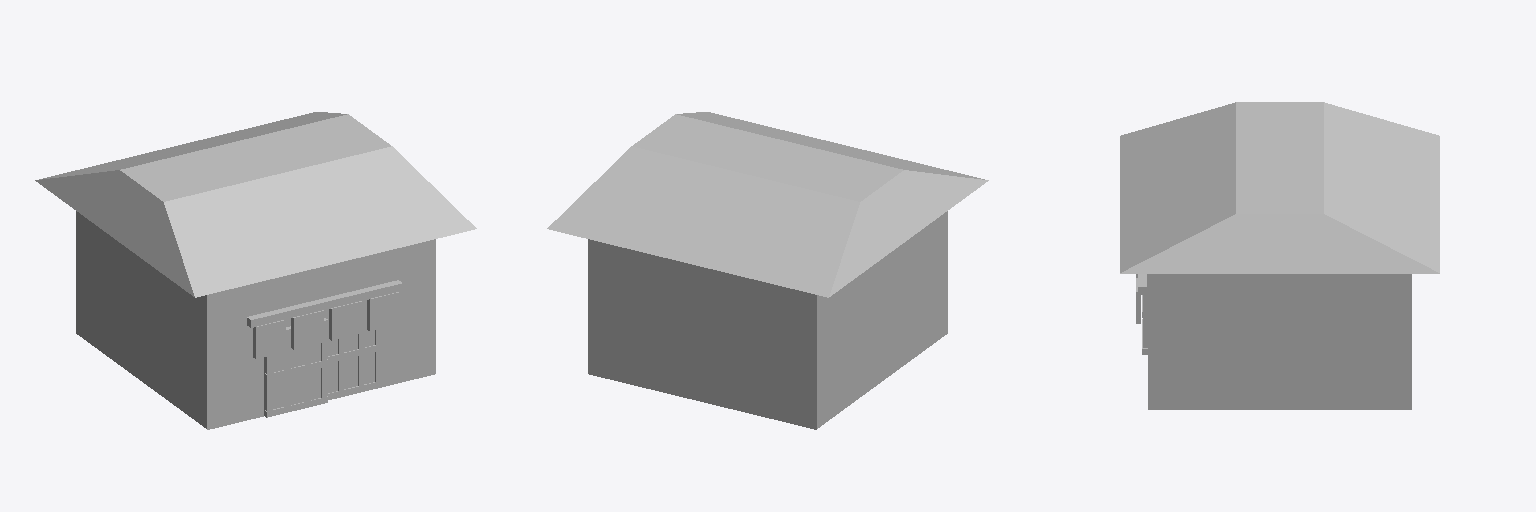
File: RamenShop.obj
The picture shows the model from 3 angles: view 1: azimuth 30°, elevation 25°; view 2: azimuth 150°, elevation 25°; view 3: azimuth 270°, elevation 25°; orthographic projection.
Parts seen in each view (by area): view 1: 立方体.008_立方体.009, Cube.001, Cube.003, 立方体.003_立方体.004, 立方体.009_立方体.010, 立方体.024_立方体.025, 立方体.005_立方体.006, 立方体.007_立方体.008, 立方体.006_立方体.007, 立方体.004_立方体.005; view 2: 立方体.008_立方体.009, Cube.004_Cube.005, Cube.003; view 3: 立方体.008_立方体.009, Cube.
Part boxes in pixels (left/top/right/bottom): 立方体.008_立方体.009: left=35, top=112, right=476, bottom=297; Cube.001: left=208, top=239, right=435, bottom=429; Cube.003: left=76, top=211, right=207, bottom=429; 立方体.003_立方体.004: left=247, top=280, right=402, bottom=327; 立方体.009_立方体.010: left=273, top=343, right=320, bottom=408; 立方体.024_立方体.025: left=327, top=314, right=374, bottom=393; 立方体.005_立方体.006: left=291, top=310, right=323, bottom=349; 立方体.007_立方体.008: left=329, top=301, right=361, bottom=340; 立方体.006_立方体.007: left=367, top=292, right=399, bottom=330; 立方体.004_立方体.005: left=253, top=320, right=285, bottom=358; 立方体.008_立方体.009: left=547, top=112, right=988, bottom=297; Cube.004_Cube.005: left=588, top=239, right=815, bottom=429; Cube.003: left=816, top=211, right=947, bottom=429; 立方体.008_立方体.009: left=1120, top=102, right=1439, bottom=273; Cube: left=1148, top=274, right=1411, bottom=408.
Bounding box in the file's own units: 7.42 × 4.92 × 7.31.